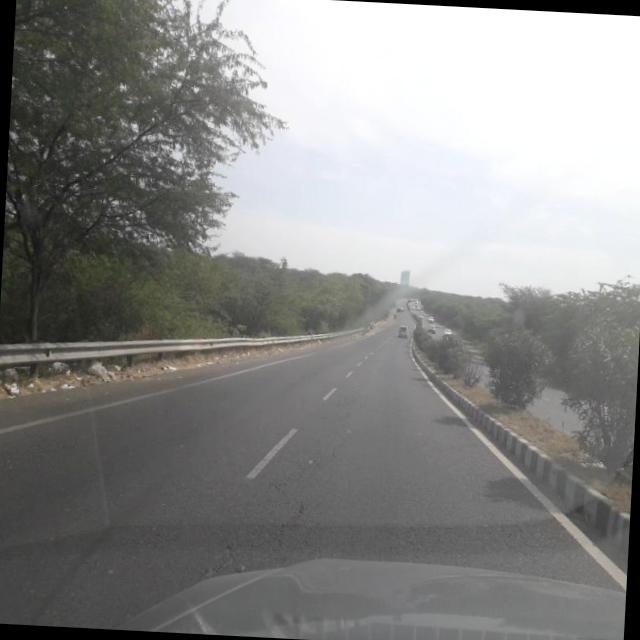pothole: (182, 443, 336, 579)
